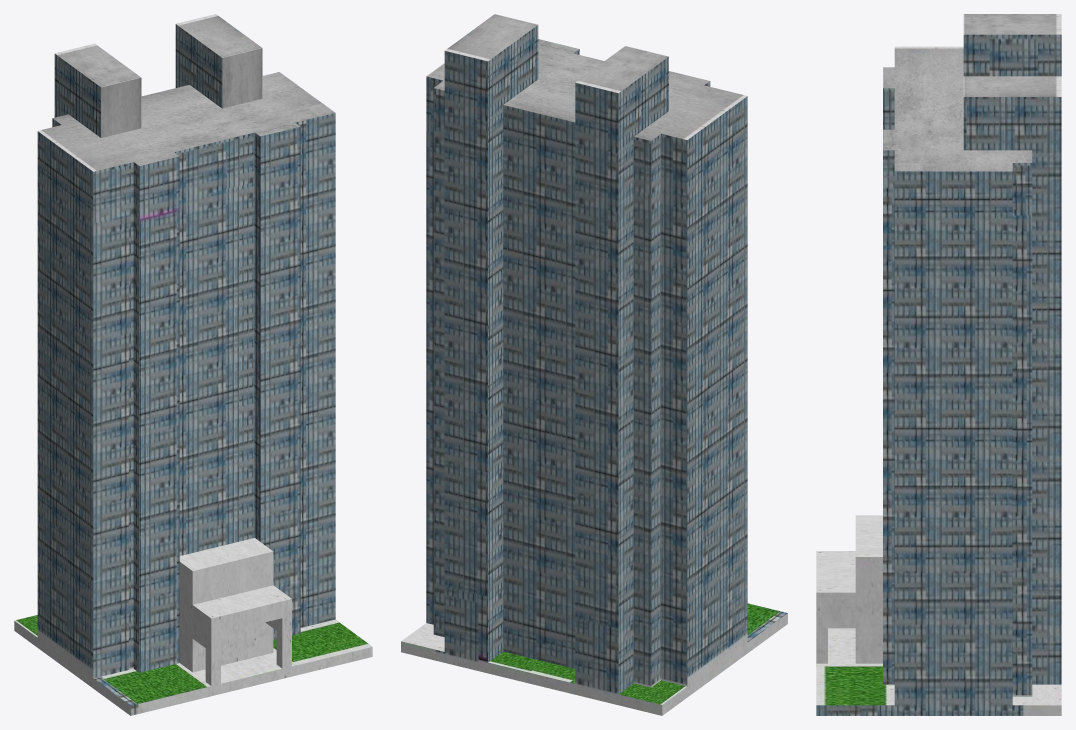
Rendered from apartment.dae.
3 views of the same model, side by side, from view 1: azimuth 30°, elevation 25°; view 2: azimuth 150°, elevation 25°; view 3: azimuth 270°, elevation 25° (orthographic). The views are drawn at different scales.
Visible parts, largest first — view 1: Apartment; view 2: Apartment; view 3: Apartment.
Boxes of the visible parts, x1,y1,x2,y2 form: Apartment: (14, 14, 372, 715); Apartment: (401, 14, 787, 715); Apartment: (816, 14, 1061, 715).
Bounding box in the file's own units: 75 × 62.5 × 168.
1 material, 1 textured.
